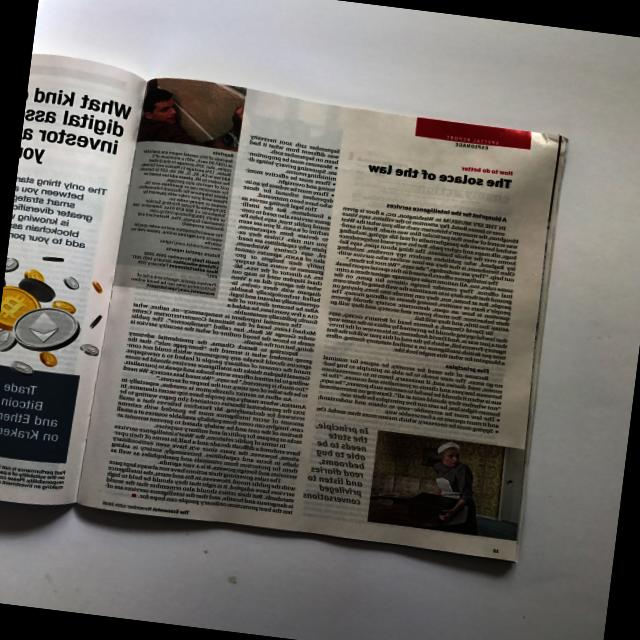Paper: (0, 50, 572, 565)
